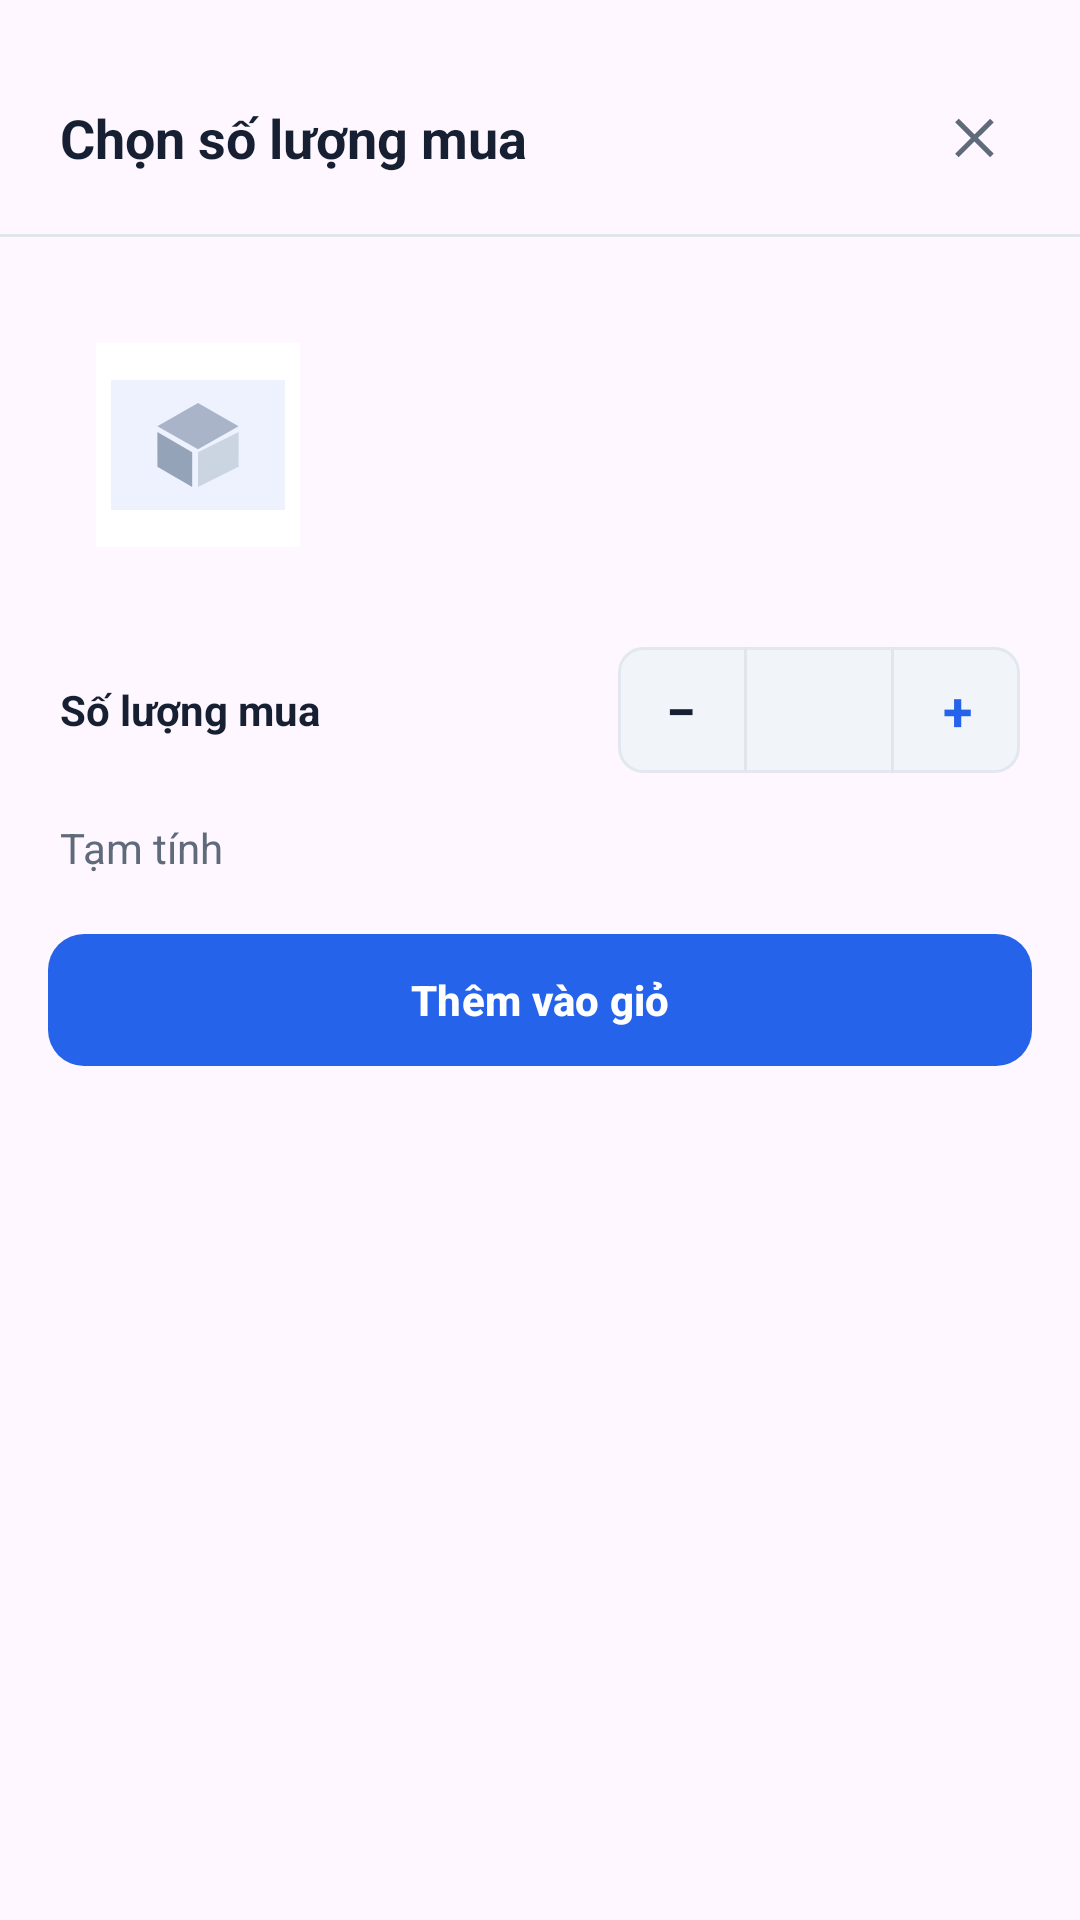

Where icons sit on this 1080 x 1920 app screen, as (x1, y1, x2, y2):
Đóng hộp chọn số lượng: (955, 119, 994, 157)
